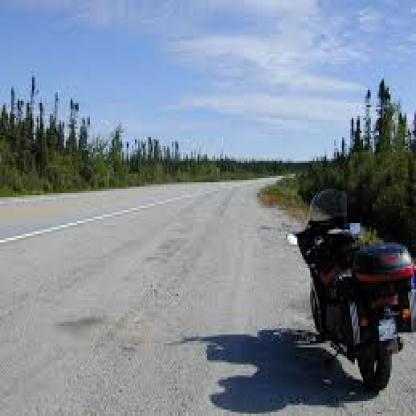car: (278, 170, 416, 407)
